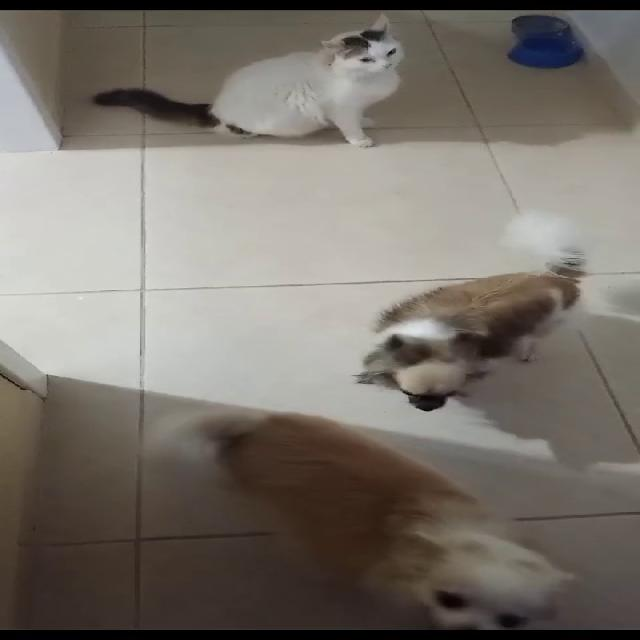Pedrita: (317, 220, 639, 415)
Simba: (189, 19, 462, 156)
Theo: (193, 397, 608, 639)
